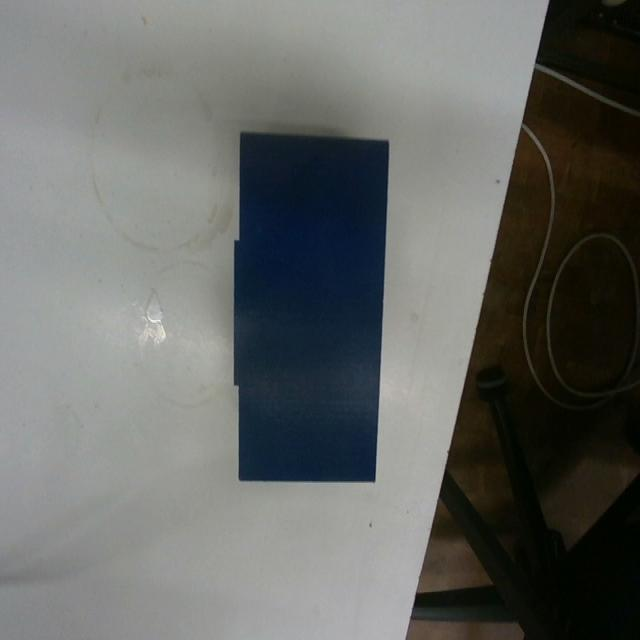Blue Cuboid: (231, 127, 390, 484)
